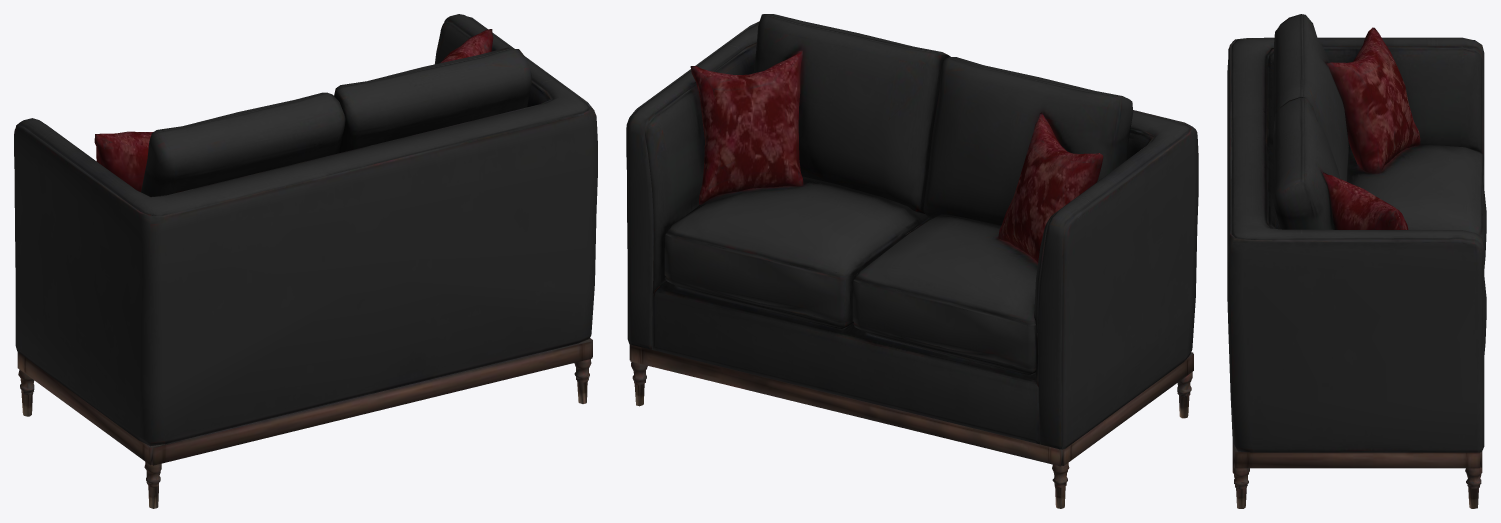
Rendered from furniture-sofa-two-seat.glb.
The picture shows the model from 3 angles, left to right: view 1: azimuth 30°, elevation 25°; view 2: azimuth 150°, elevation 25°; view 3: azimuth 270°, elevation 25°; orthographic projection. The views are drawn at different scales.
Visible parts, largest first — view 1: tripo_node_16f8e58b-b67c-4b7c-9b5c-bcbb194e71ad; view 2: tripo_node_16f8e58b-b67c-4b7c-9b5c-bcbb194e71ad; view 3: tripo_node_16f8e58b-b67c-4b7c-9b5c-bcbb194e71ad.
Boxes of the visible parts, x1,y1,x2,y2 form: tripo_node_16f8e58b-b67c-4b7c-9b5c-bcbb194e71ad: (14,14,597,508); tripo_node_16f8e58b-b67c-4b7c-9b5c-bcbb194e71ad: (626,14,1198,508); tripo_node_16f8e58b-b67c-4b7c-9b5c-bcbb194e71ad: (1227,14,1486,508).
Size of the model in its own units: 1.3 by 0.94 by 0.7.
Materials: 1 (1 with a texture image).
